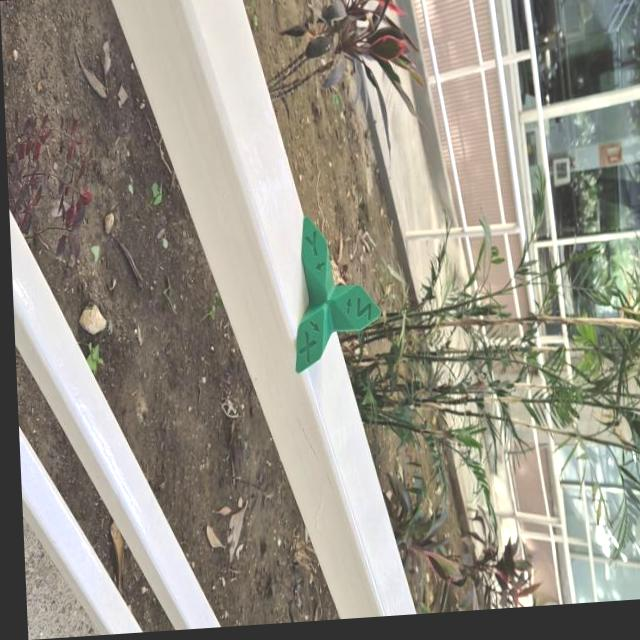eje: (287, 207, 386, 376)
